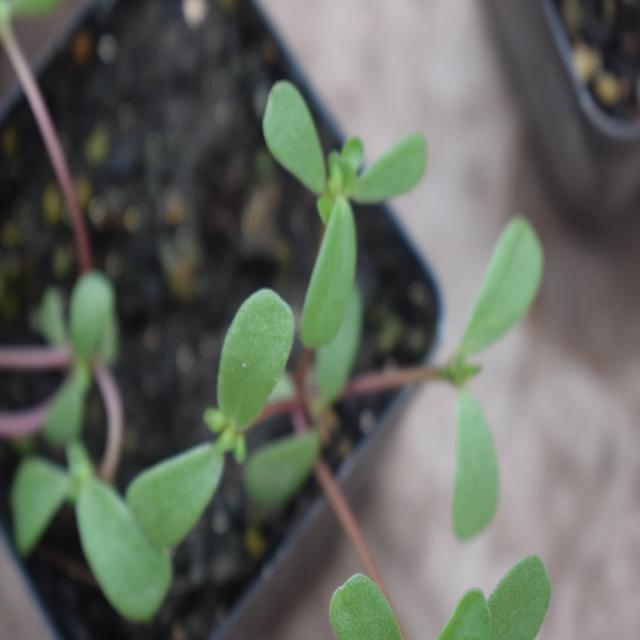purslane: (16, 102, 516, 526)
